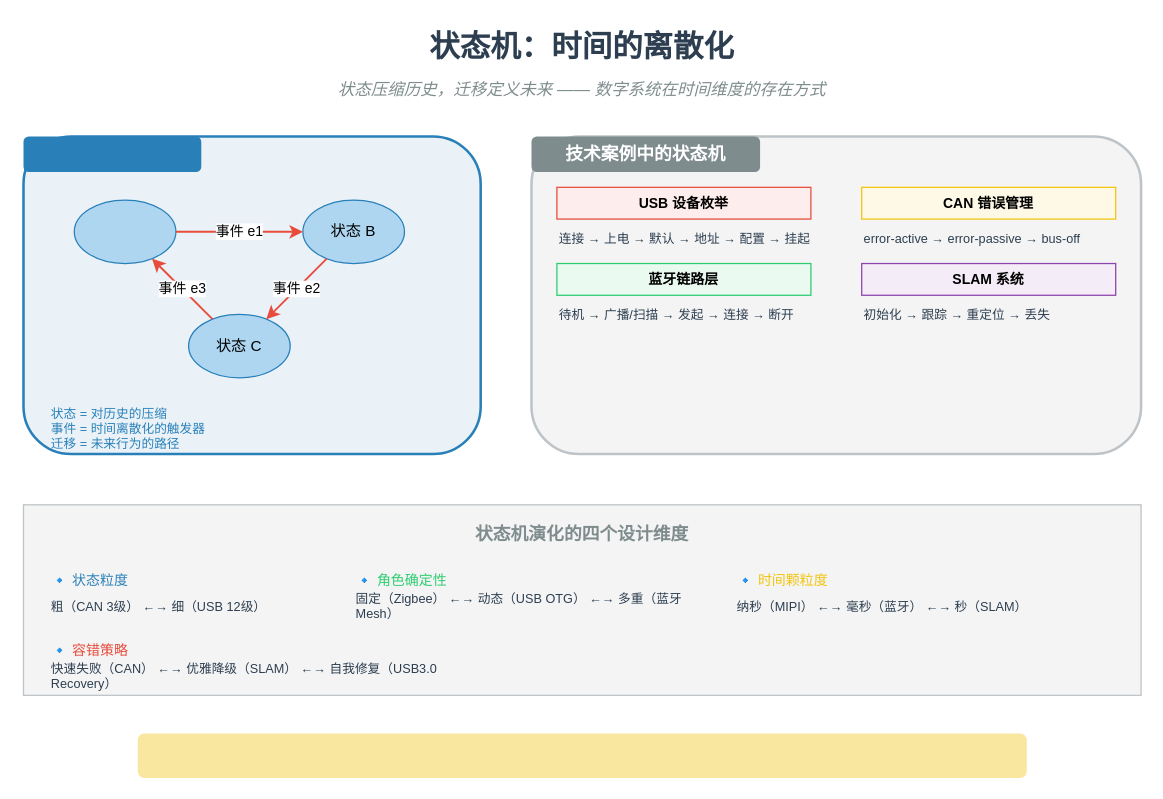
The diagram is 1163 pixels wide and 799 high, and some of its shapes have lost their labels. The centre of each missing label's shape, as x and y in pixels:
状态 A: (124,231)
状态机基本模型: (112,153)
💡 状态机是用有限状态应对无限世界的智慧 —— 它敢于忽略绝大多数可能性，只关注对系统存在至关重要的少数事件: (581,755)
